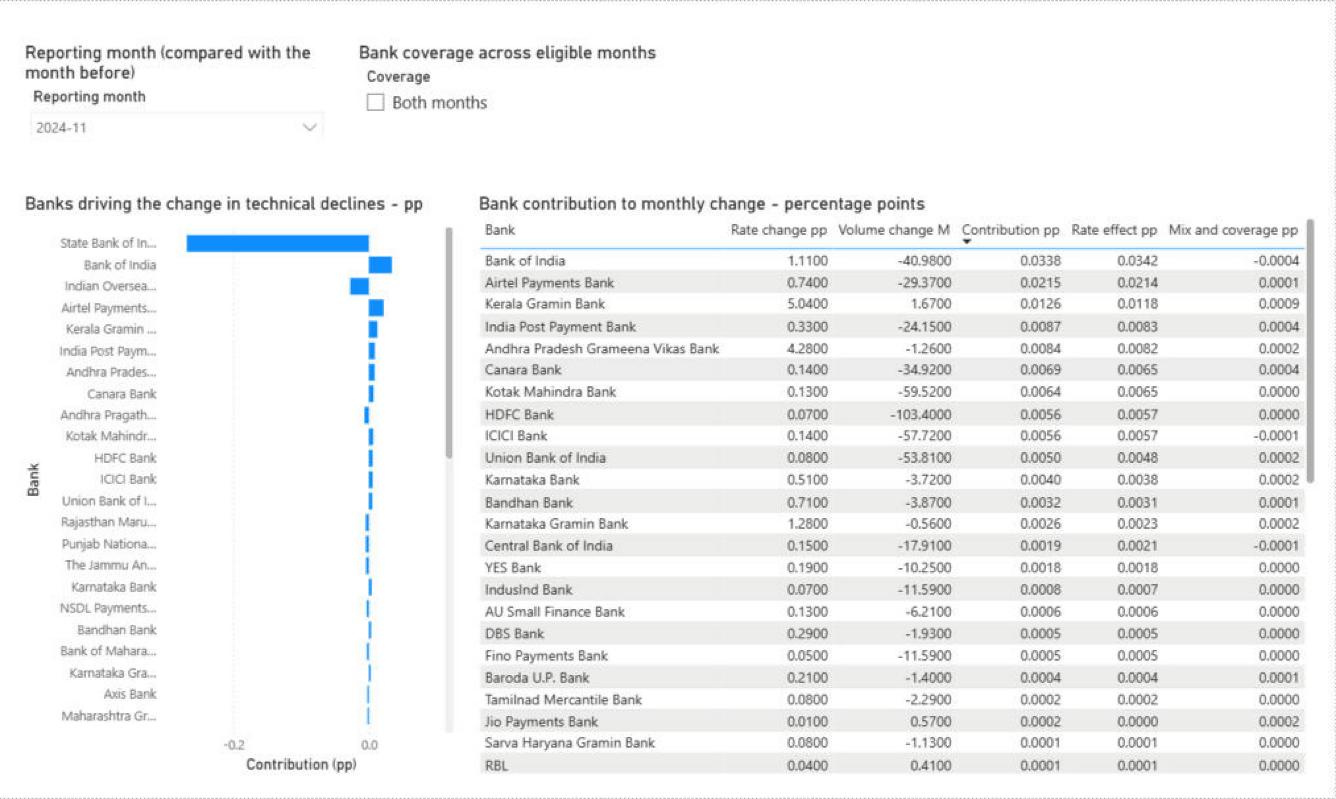

The dashboard page shown, as its layout file describes it:
{"tool":"powerbi","page":{"name":"Monthly decline drivers","canvas":[1280,740],"ordinal":1},"visuals":[{"type":"slicer","title":"Reporting month (compared with the month before)","fields":{"Values":["Drivers.Reporting month"]},"box":[20,15,300,90],"z":1},{"type":"slicer","title":"Bank coverage across eligible months","fields":{"Values":["Drivers.Coverage"]},"box":[340,15,420,130],"z":2},{"type":"tableEx","title":"Bank contribution to monthly change - percentage points","fields":{"Values":["Drivers.Bank","Drivers.Rate change pp","Drivers.Volume change M","Drivers.Contribution pp","Drivers.Rate effect pp","Drivers.Mix and coverage pp"]},"box":[455,160,810,560],"z":3},{"type":"barChart","title":"Banks driving the change in technical declines - pp","fields":{"Category":["Drivers.Bank"],"Y":["Drivers.Contribution (pp)"]},"box":[20,160,420,560],"z":4}]}

Visuals, with their boxes on the page's 1280x740 design canvas (x1, y1, x2, y2). These are canvas units, not pixel positions in the 1336x799 screenshot, which may show the page scaled, cropped or inside an application window:
"Reporting month (compared with the month before)" slicer: (20,15,320,105)
"Bank coverage across eligible months" slicer: (340,15,760,145)
"Bank contribution to monthly change - percentage points" tableEx: (455,160,1265,720)
"Banks driving the change in technical declines - pp" barChart: (20,160,440,720)
